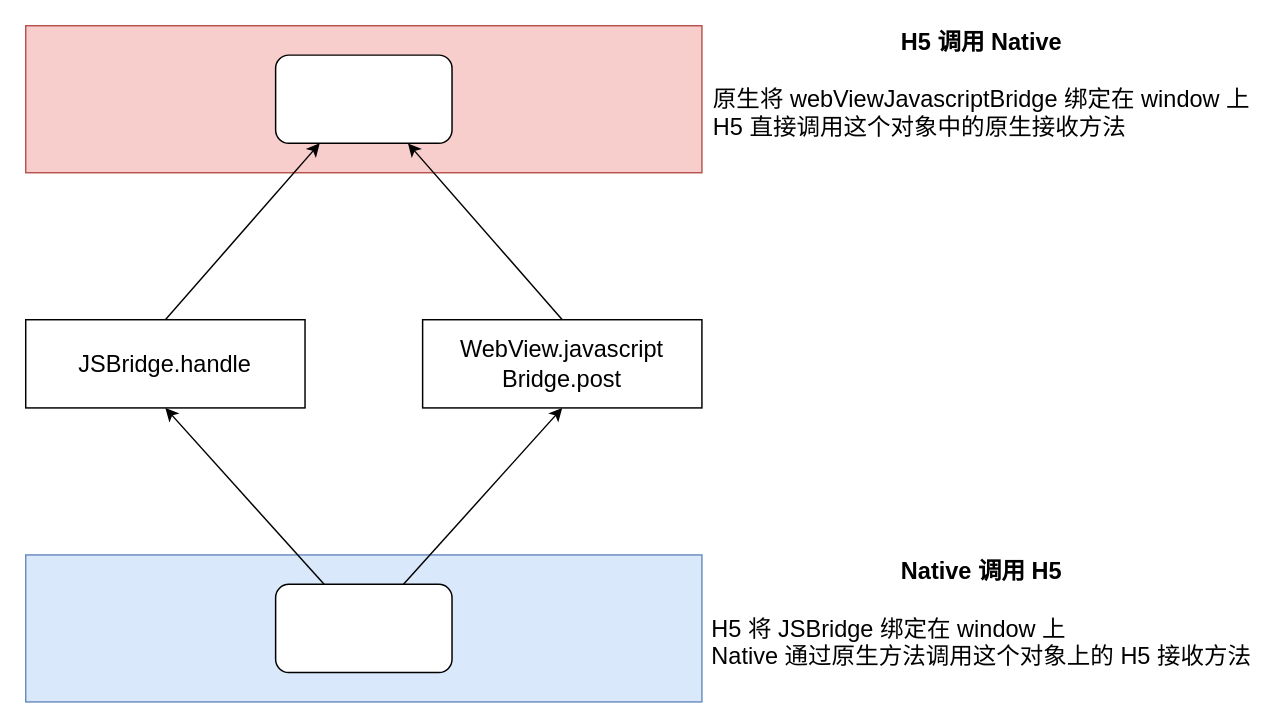
Image size: 1286x728. Some labels were removed from this diagram. The centre of each missing label's shape, as x and y in pixels:
"H5" belongs at (363,98).
"Native" belongs at (363,628).
